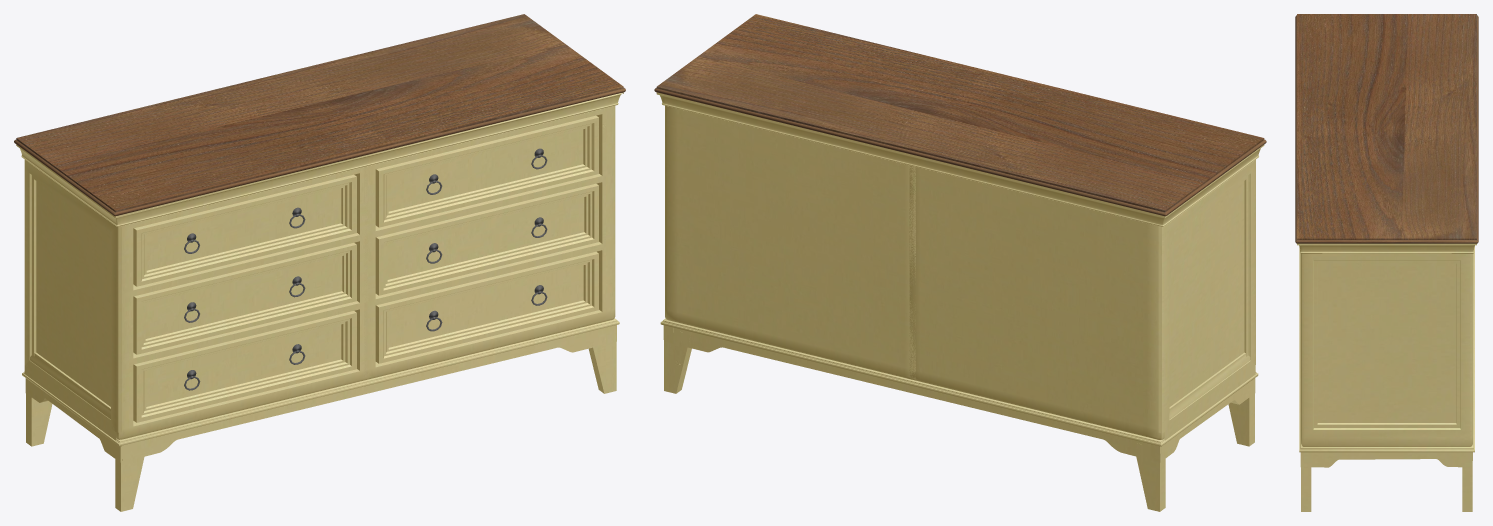
3 renders of one model, left to right at view 1: azimuth 30°, elevation 25°; view 2: azimuth 150°, elevation 25°; view 3: azimuth 270°, elevation 25°, orthographic. The views are drawn at different scales.
Visible parts, largest first — view 1: ID11, ID20, столешница 1, столешница, ID49, ID40, ID86, ID68, ID59; view 2: ID11, ID20, столешница 1, столешница, ID49, ID40, ID59, ID77, ID86; view 3: столешница 1, ID11, столешница, ID49, ID40, ID68, ID77.
Part boxes in pixels (bbox=[...]): ID11: bbox=[24, 105, 615, 440]; ID20: bbox=[30, 165, 370, 439]; столешница 1: bbox=[14, 14, 625, 216]; столешница: bbox=[16, 92, 623, 226]; ID49: bbox=[25, 325, 616, 462]; ID40: bbox=[22, 318, 619, 446]; ID86: bbox=[115, 456, 144, 511]; ID68: bbox=[588, 342, 616, 393]; ID59: bbox=[26, 393, 52, 446]; ID11: bbox=[665, 105, 1255, 440]; ID20: bbox=[909, 165, 1250, 439]; столешница 1: bbox=[654, 14, 1266, 216]; столешница: bbox=[656, 92, 1264, 226]; ID49: bbox=[663, 325, 1255, 462]; ID40: bbox=[660, 318, 1258, 446]; ID59: bbox=[1133, 442, 1165, 511]; ID77: bbox=[664, 330, 691, 393]; ID86: bbox=[1228, 393, 1254, 446]; столешница 1: bbox=[1295, 14, 1478, 243]; ID11: bbox=[1301, 253, 1472, 446]; столешница: bbox=[1297, 243, 1476, 253]; ID49: bbox=[1300, 452, 1472, 467]; ID40: bbox=[1299, 246, 1474, 452]; ID68: bbox=[1301, 467, 1311, 511]; ID77: bbox=[1462, 467, 1472, 511].
Size of the model in its own units: 0.4348 by 0.2471 by 0.1486.
Materials: 3 (2 with a texture image).
